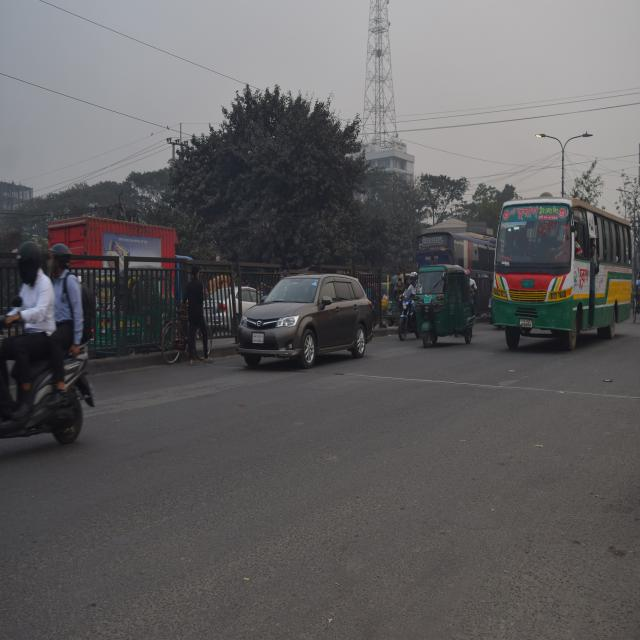bus: (493, 190, 640, 356), (402, 186, 499, 298)
car: (225, 252, 382, 373), (201, 271, 265, 335)
motorbike: (0, 307, 102, 457), (394, 290, 426, 344)
pickup-van: (46, 200, 208, 345)
